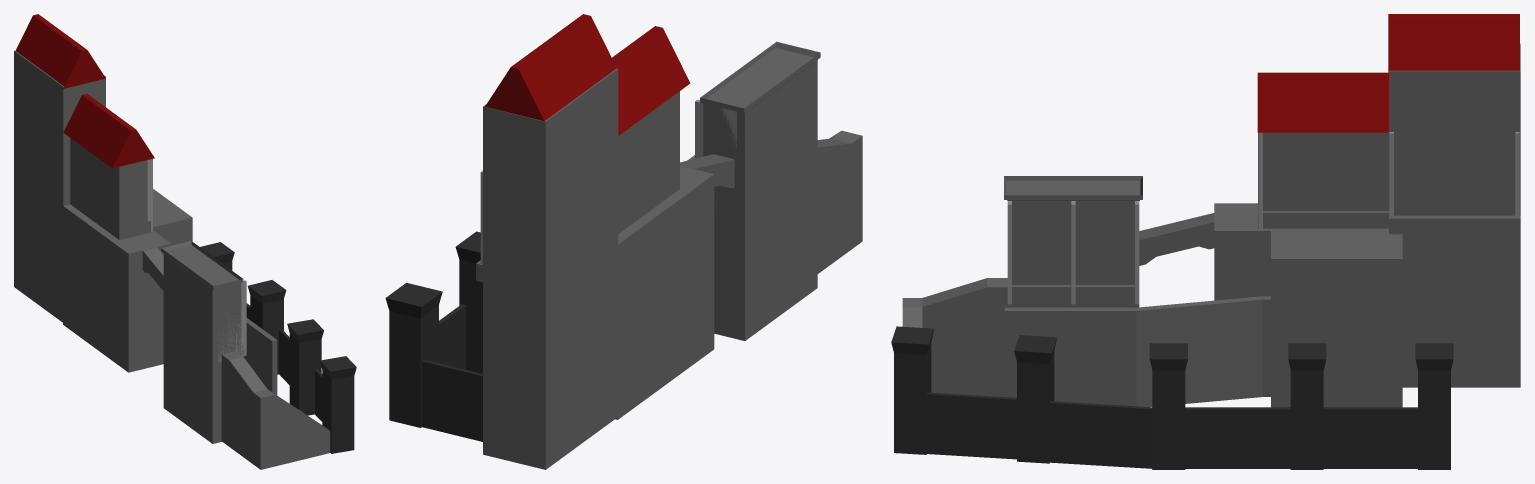
File: castle_small2.fbx
The picture shows the model from 3 angles, left to right: view 1: azimuth 30°, elevation 25°; view 2: azimuth 150°, elevation 25°; view 3: azimuth 270°, elevation 25°; orthographic projection. The views are drawn at different scales.
Parts seen in each view (by area): view 1: Cube.012, Cube.008, Cube.001, Cube.004, Cube.010, Cube.019, Cube.020, Cube.005, Cube.015, Cube.016, Cube.006, Cube.009 (+4 smaller); view 2: Cube.012, Cube.001, Cube.008, Cube.017, Cube.020, Cube.010, Cube.004, Cube.019, Cube.018, Cube.007, Cube.011; view 3: Cube.012, Cube.006, Cube.009, Cube.001, Cube.010, Cube.015, Cube.016, Cube.018, Cube.005, Cube.004, Cube.019, Cube.020 (+3 smaller).
Part boxes in pixels (x1,y1,x2,y2): Cube.012: (14, 50, 105, 322); Cube.008: (63, 204, 171, 372); Cube.001: (161, 241, 244, 443); Cube.004: (221, 351, 330, 469); Cube.010: (70, 138, 150, 239); Cube.019: (63, 94, 154, 168); Cube.020: (15, 14, 105, 88); Cube.005: (315, 356, 356, 453); Cube.015: (279, 319, 323, 415); Cube.016: (246, 280, 286, 374); Cube.006: (243, 318, 277, 395); Cube.009: (153, 189, 192, 245); Cube.012: (476, 68, 618, 469); Cube.001: (700, 41, 820, 340); Cube.008: (615, 166, 714, 419); Cube.017: (385, 282, 482, 441); Cube.020: (485, 14, 616, 121); Cube.010: (618, 91, 679, 233); Cube.004: (817, 130, 862, 273); Cube.019: (612, 26, 690, 135); Cube.018: (439, 231, 482, 373); Cube.007: (680, 154, 734, 188); Cube.011: (695, 99, 736, 215); Cube.012: (1389, 43, 1520, 387); Cube.006: (1004, 296, 1270, 406); Cube.009: (1271, 231, 1402, 407); Cube.001: (1004, 176, 1142, 307); Cube.010: (1258, 132, 1388, 228); Cube.015: (1014, 335, 1152, 468); Cube.016: (1149, 343, 1290, 469); Cube.018: (1288, 343, 1417, 469); Cube.005: (891, 326, 1016, 459); Cube.004: (902, 278, 1007, 396); Cube.019: (1257, 72, 1388, 132); Cube.020: (1388, 14, 1519, 73).
Bounding box in the file's own units: 1886 × 3850 × 5735.
